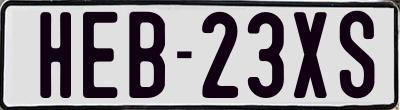2: (201, 10, 241, 97)
3: (248, 10, 288, 98)
B: (129, 10, 170, 101)
E: (81, 12, 119, 101)
H: (37, 10, 71, 98)
S: (337, 10, 376, 98)
X: (292, 10, 331, 99)
